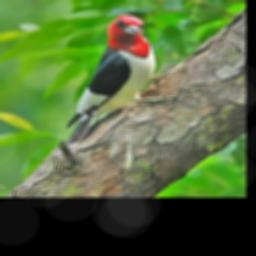Woodpecker: (60, 14, 173, 144)
